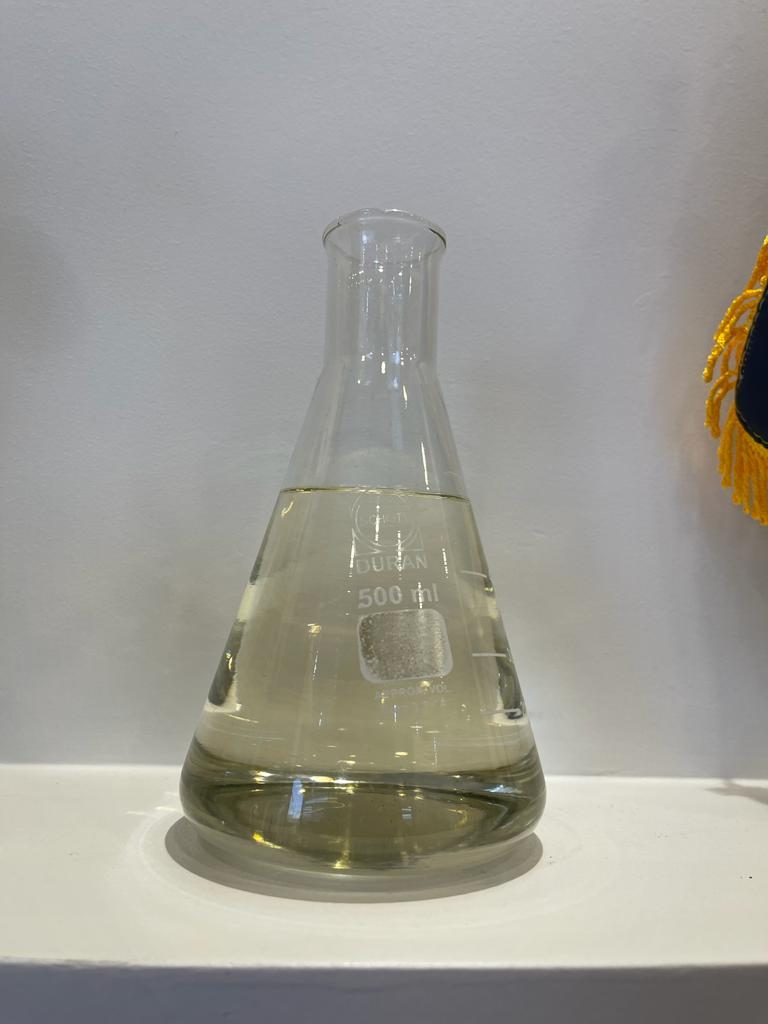Titrarion: (168, 200, 555, 857)
